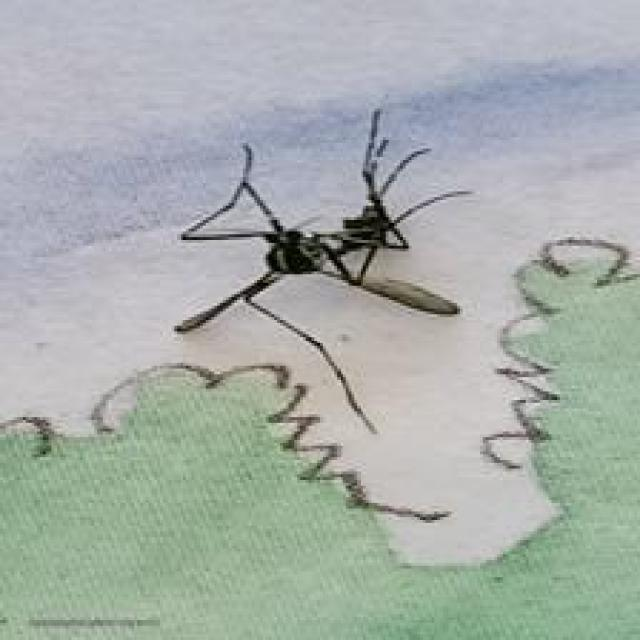Aedes albopictus: (172, 106, 474, 434)
